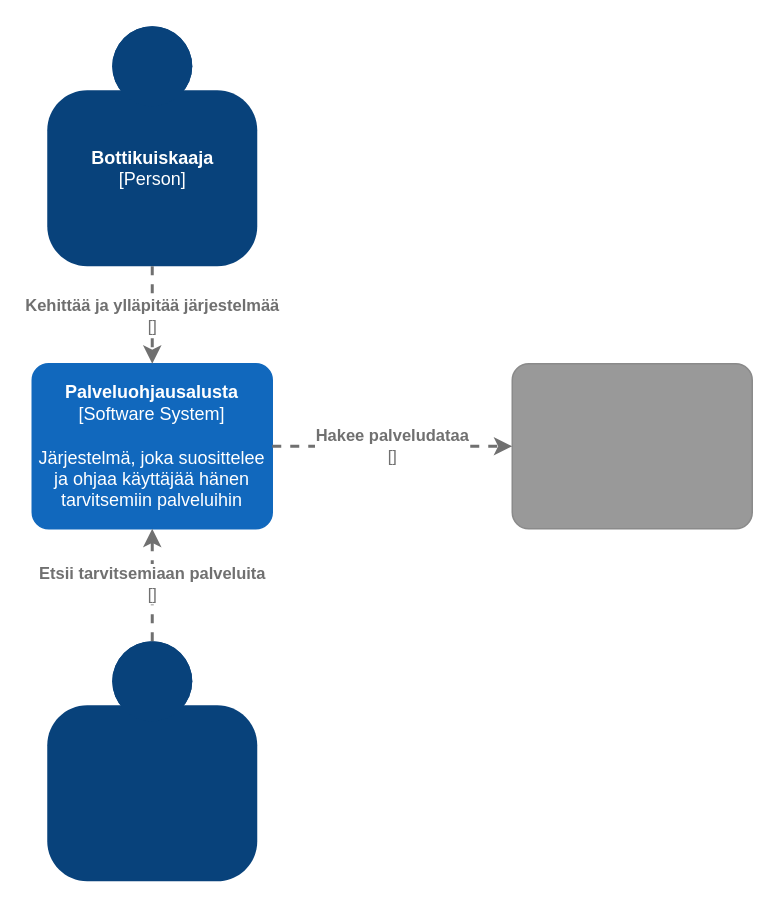
This 779x906 diagram has some shape labels left out. Here are the shapes that lost their labels. From the top down, the centre of each, then its label:
(x=631, y=445): Palvelutietovaranto PTV [Software System] Varsinais-Suomen julkiset palvelut
(x=151, y=760): Loppukäyttäjä [Person] Varsinaissuomalainen henkilö
